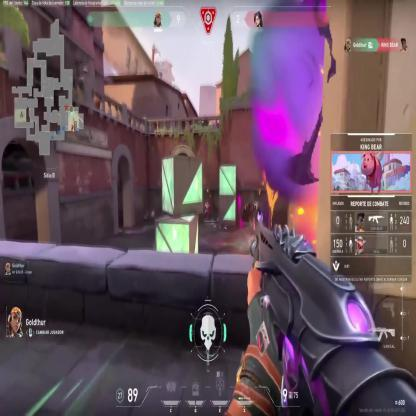enemy: (204, 200, 210, 220)
enemy_head: (206, 199, 209, 204)
